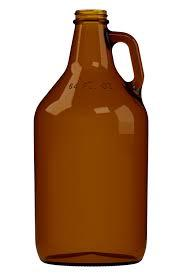Glass bottle: (17, 4, 162, 275)
